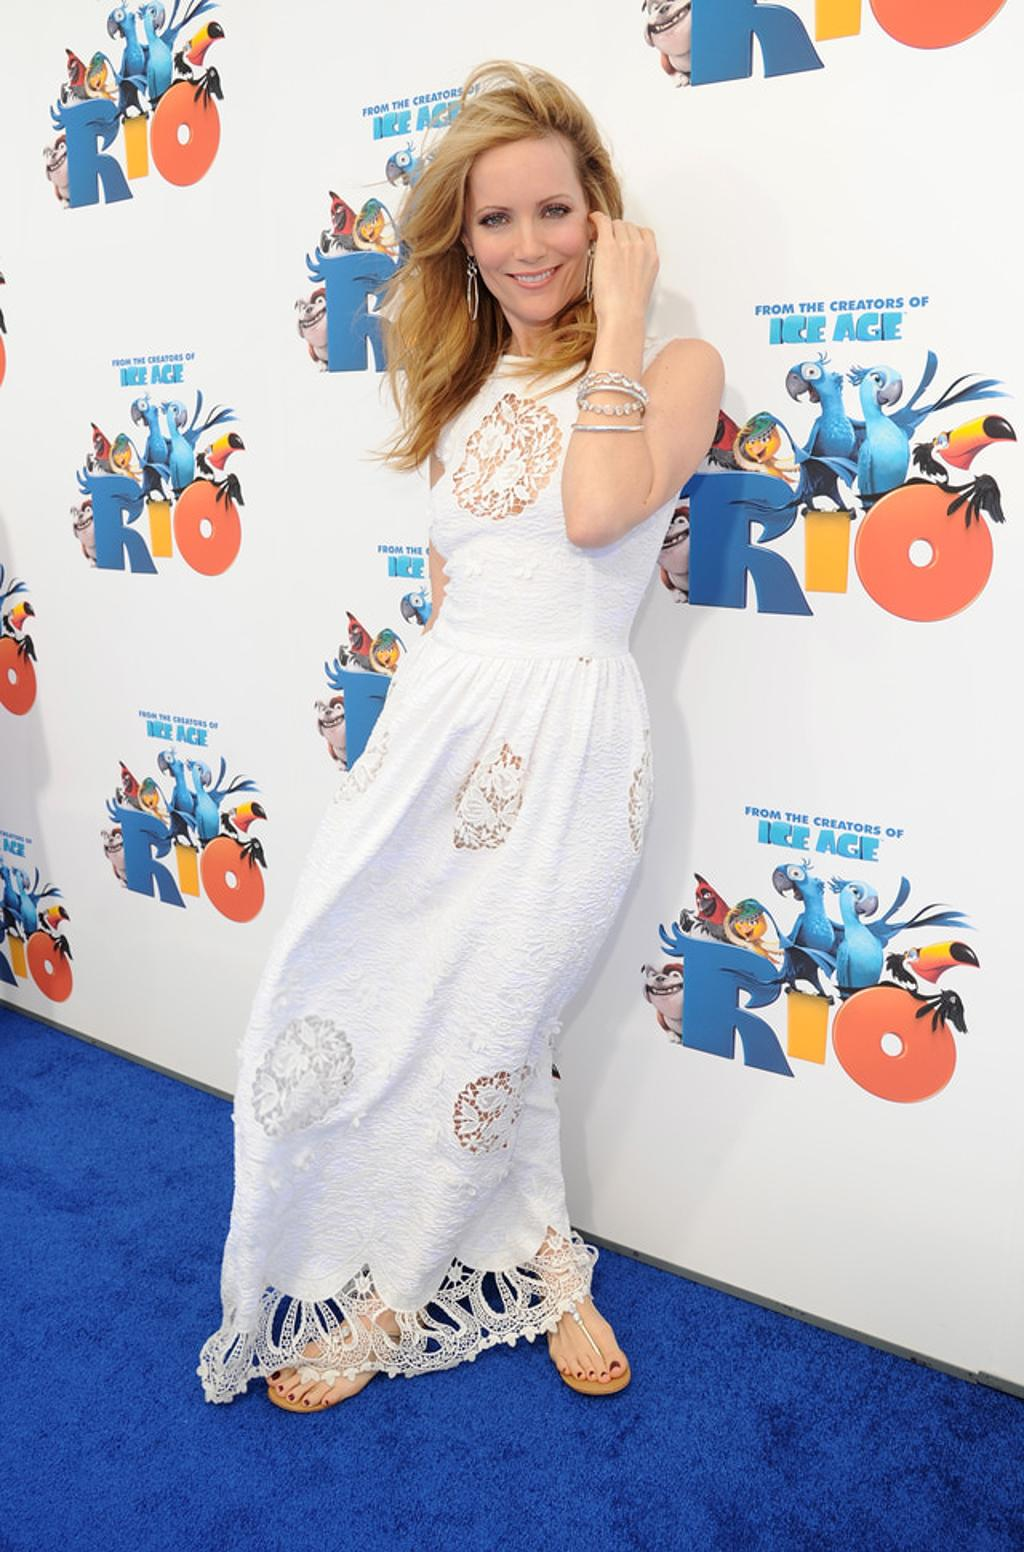face: (467, 130, 594, 324)
